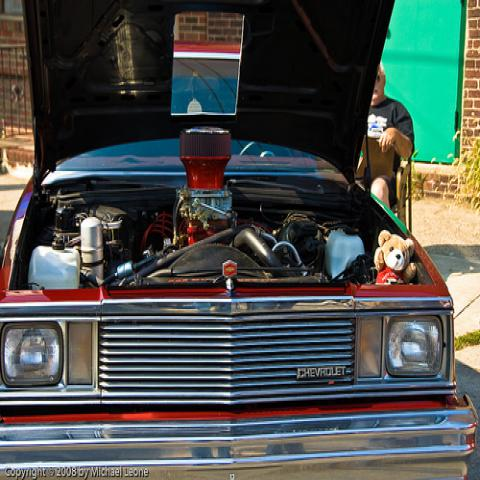car: (1, 3, 479, 475)
